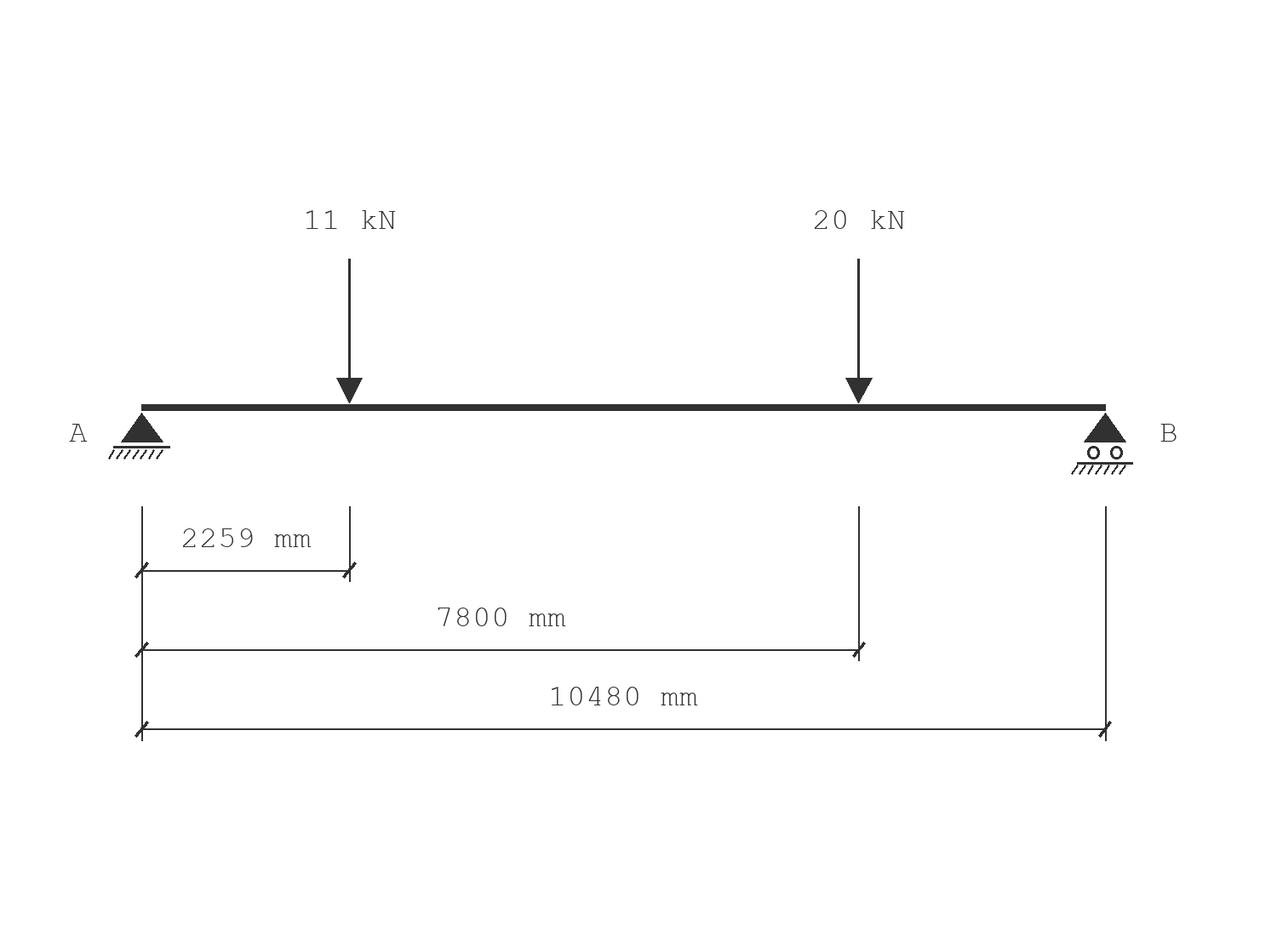pin_support: (108, 413, 170, 459)
point_load: (845, 259, 873, 403), (336, 259, 363, 403)
roller_support: (1071, 413, 1133, 475)
